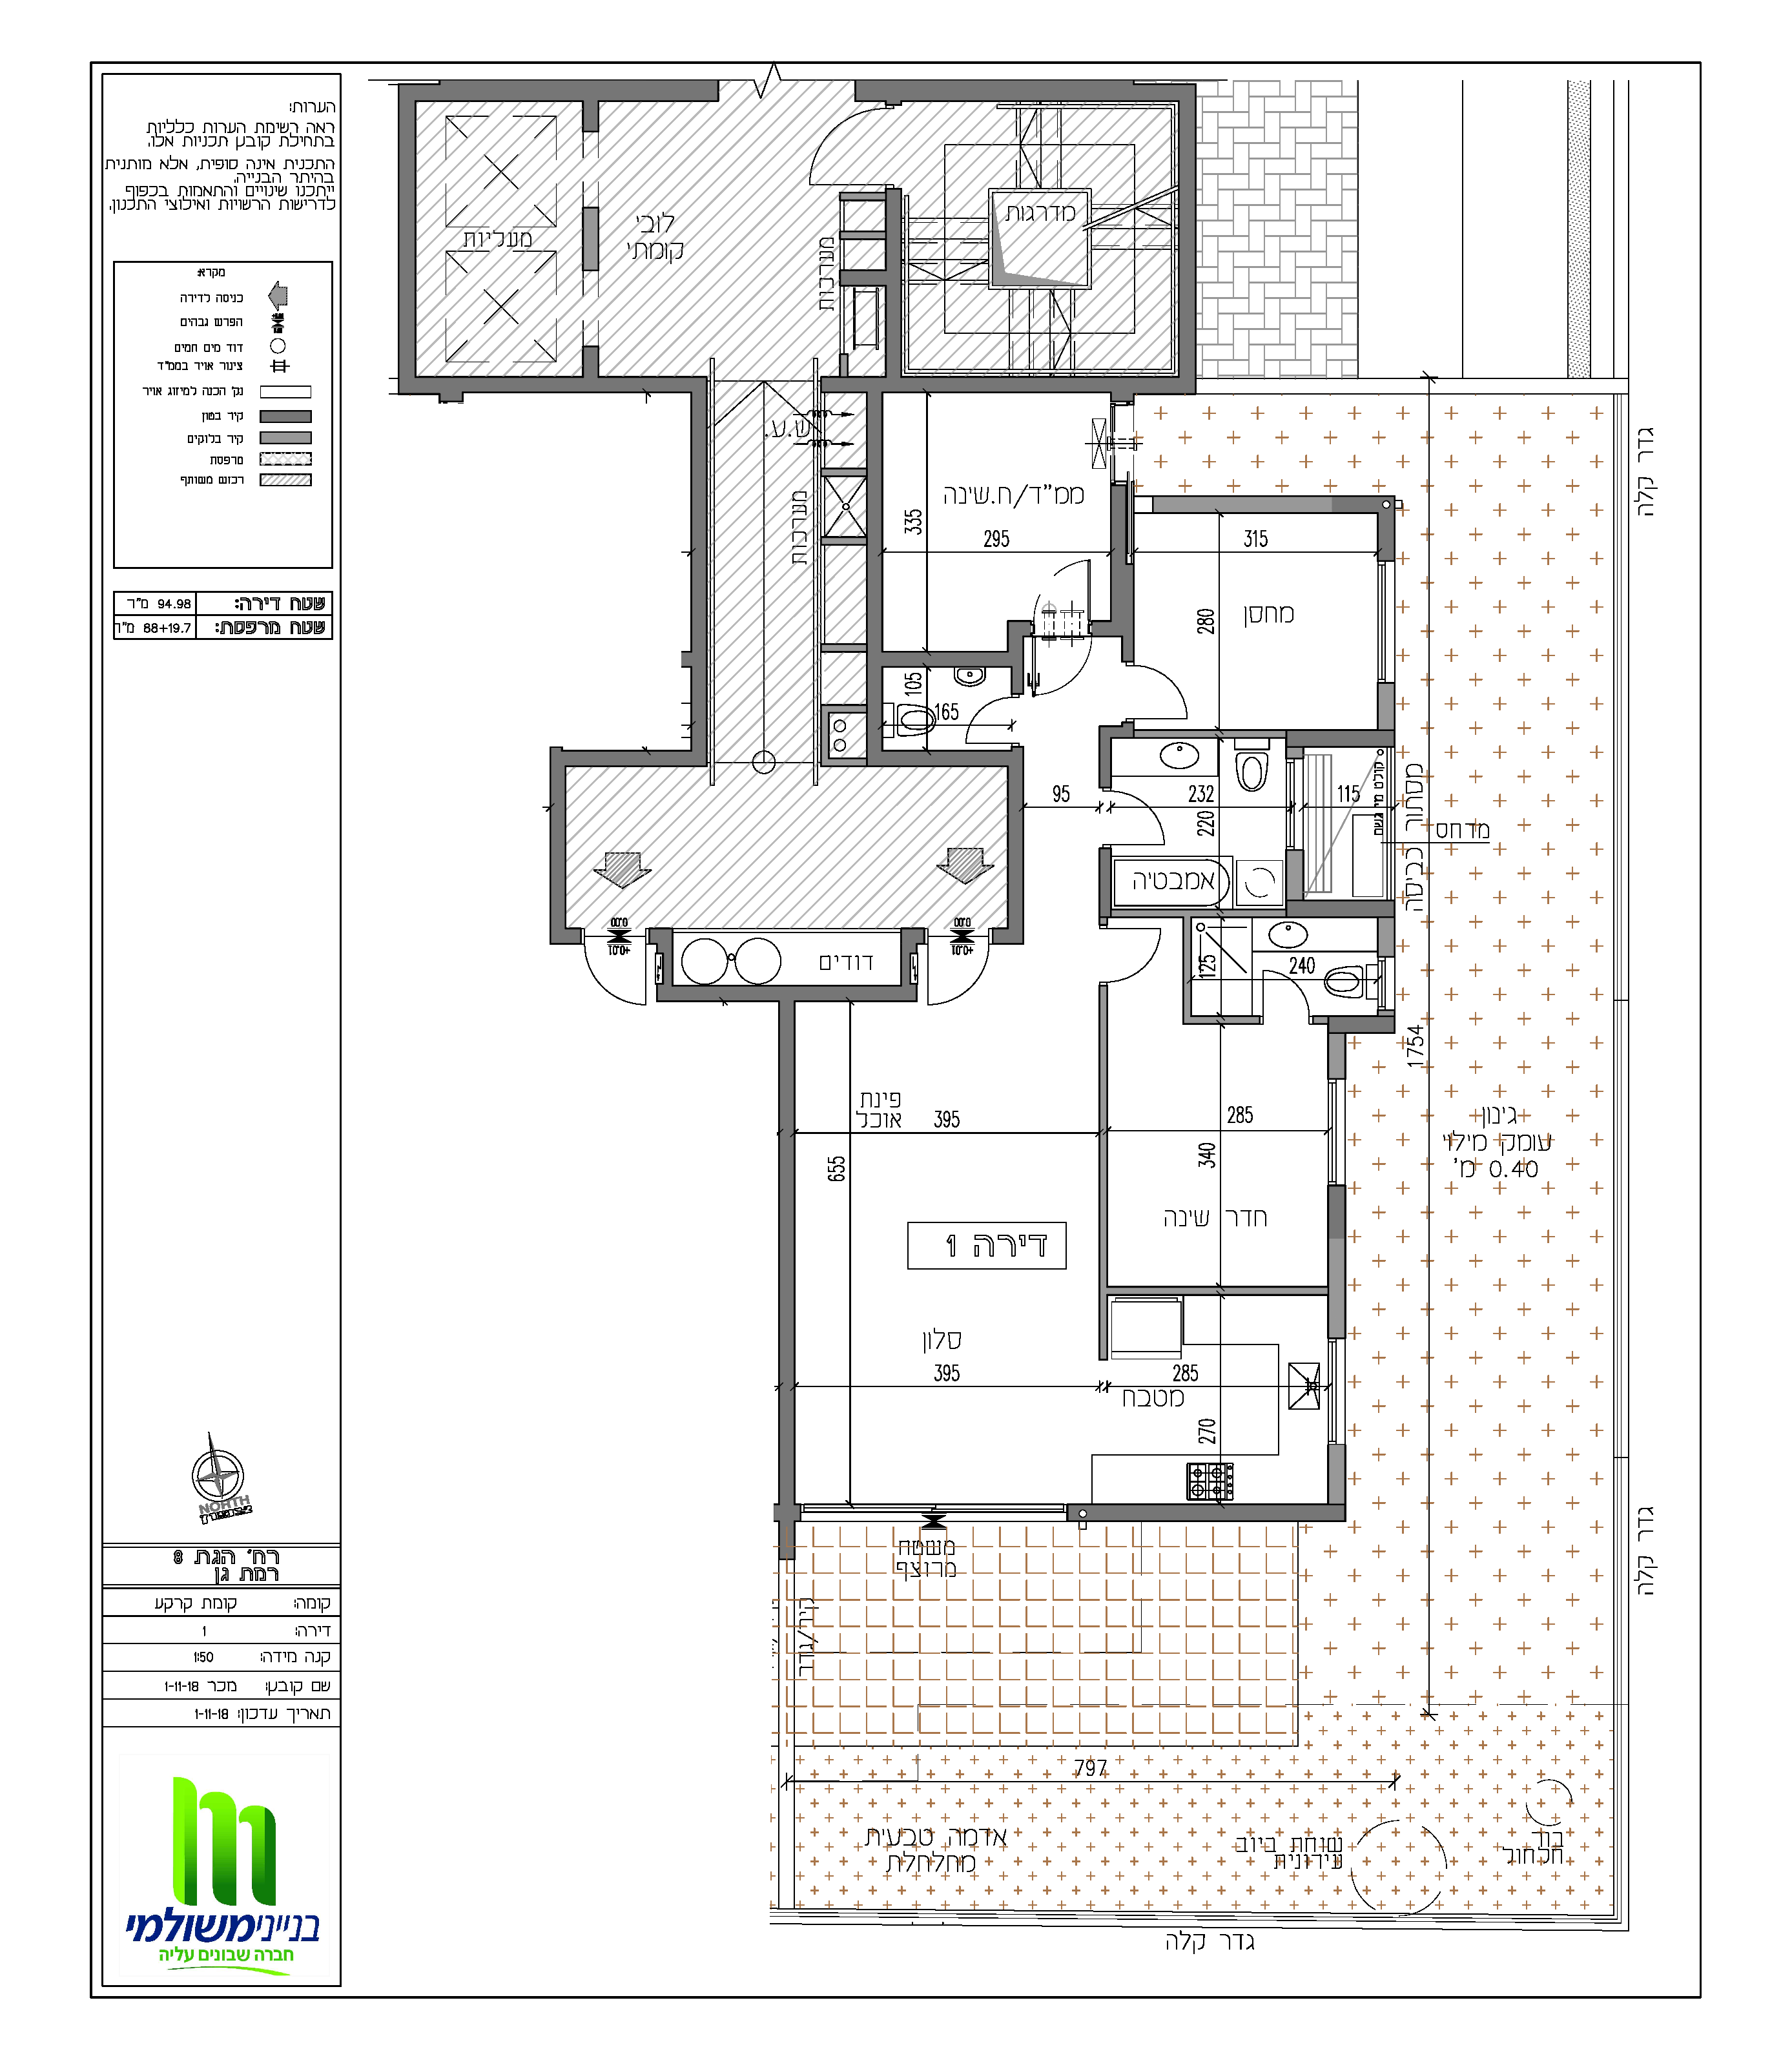door: (799, 110, 872, 186), (1118, 780, 1182, 853), (925, 949, 1000, 1012), (573, 951, 650, 1012), (1114, 921, 1170, 998), (1139, 655, 1196, 727), (1256, 965, 1321, 1012), (960, 690, 1011, 750)
wall: (780, 986, 794, 1519), (445, 79, 715, 102), (869, 382, 885, 762), (396, 86, 415, 366), (867, 81, 1137, 100), (895, 377, 1198, 391), (694, 380, 704, 757), (869, 387, 879, 764), (399, 378, 702, 389), (1182, 84, 1193, 380), (550, 748, 566, 941), (659, 988, 904, 998), (1156, 499, 1375, 510), (1100, 986, 1105, 1349), (1114, 489, 1125, 634), (552, 753, 702, 762), (1114, 909, 1282, 916), (1293, 900, 1386, 913), (1293, 730, 1384, 743), (1330, 1238, 1342, 1328), (1184, 911, 1189, 1019), (1140, 732, 1281, 736), (1102, 851, 1109, 911), (1289, 857, 1300, 895), (1380, 687, 1391, 725), (1100, 730, 1107, 781), (1380, 920, 1391, 951)
window: (1312, 1074, 1352, 1193), (1370, 557, 1400, 687), (1319, 1333, 1352, 1449), (1281, 757, 1307, 851)
